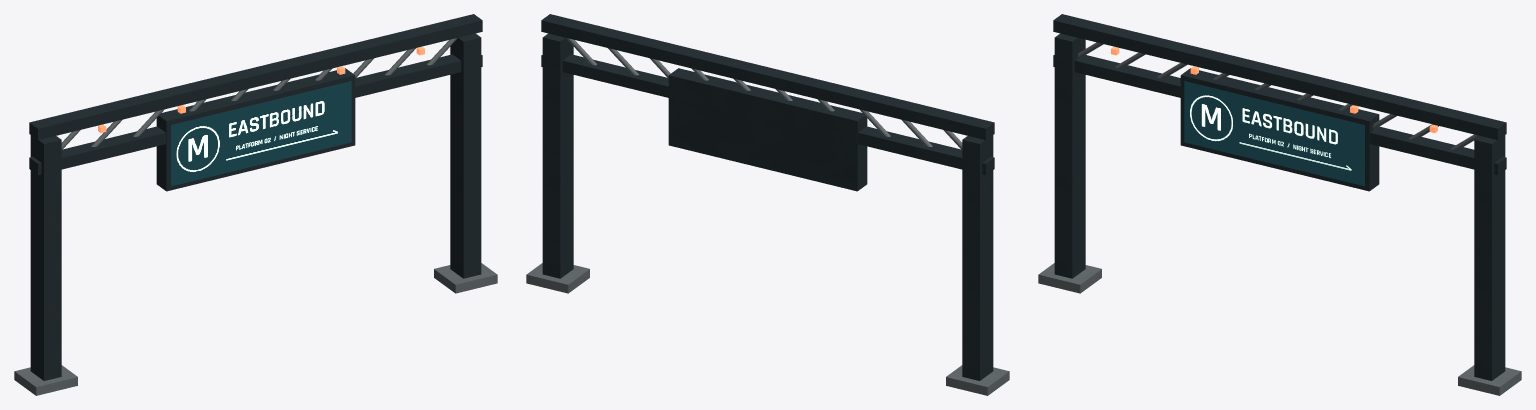
File: NC_TransitGantry_LOD1.fbx
3 views of the same model, side by side, from view 1: azimuth 30°, elevation 25°; view 2: azimuth 150°, elevation 25°; view 3: azimuth 330°, elevation 25° (orthographic).
Parts seen in each view (by area): view 1: NC_TransitGantry_LOD1; view 2: NC_TransitGantry_LOD1; view 3: NC_TransitGantry_LOD1.
Boxes of the visible parts, x1,y1,x2,y2 form: NC_TransitGantry_LOD1: [14, 14, 497, 395]; NC_TransitGantry_LOD1: [526, 14, 1009, 395]; NC_TransitGantry_LOD1: [1038, 14, 1521, 395].
Size of the model in its own units: 1100 by 593 by 90.
